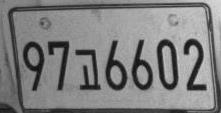0: (156, 38, 179, 91)
2: (182, 37, 207, 91)
6: (104, 39, 128, 90), (130, 39, 154, 90)
7: (46, 40, 69, 91)
9: (22, 40, 45, 91)
고: (75, 48, 100, 89)
